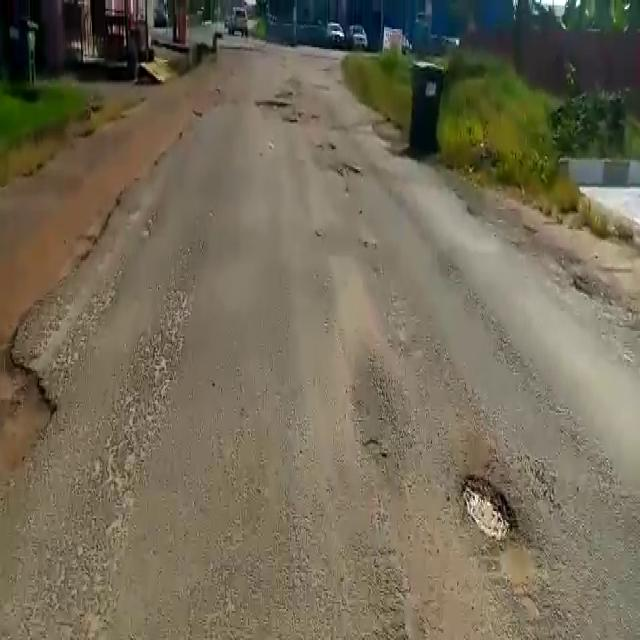Pothole: (461, 470, 521, 548), (334, 159, 362, 178)
